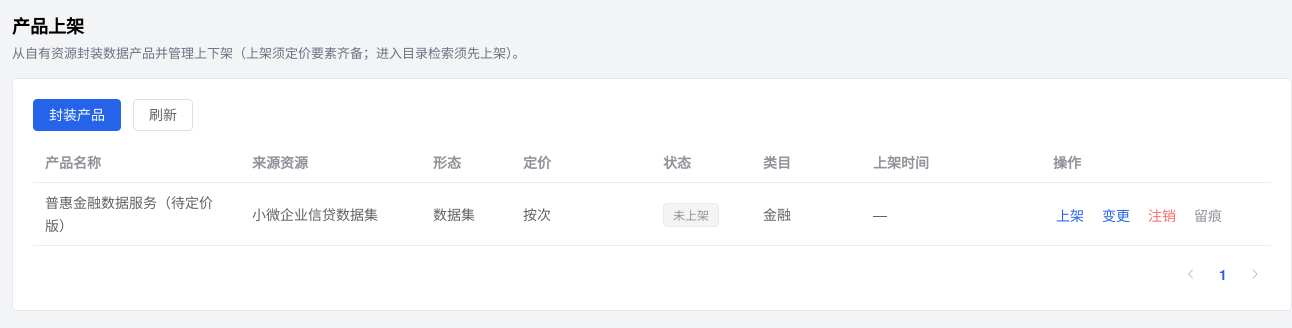
it: 上架 / 下架 / 重新上架 / 注销（T16） › 定价不齐备上架：1007C0020 原样展示且状态不变（不乐观更新）
The image size is (1292, 328).
Click the button "上架".
click(1070, 216)  # box [1053, 206, 1087, 226]
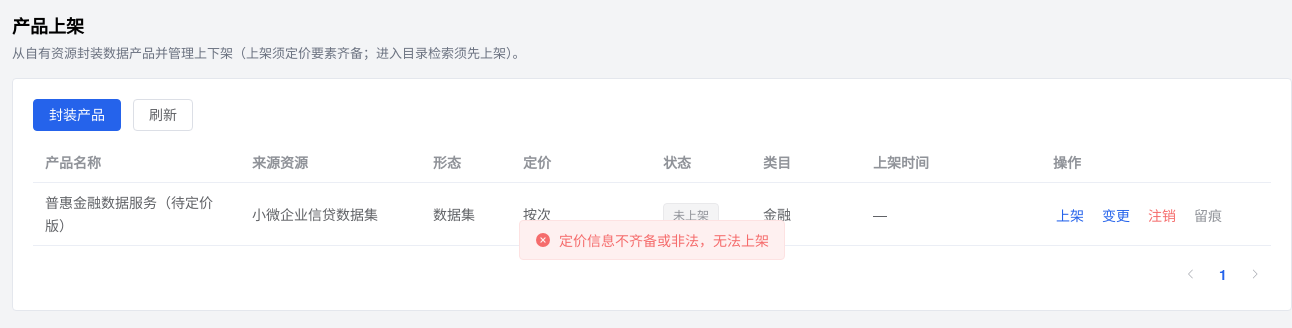
Expected: the text "未上架" is shown, [673, 209, 709, 221]
Result: the text "定价信息不齐备或非法，无法上架" is shown at [559, 233, 769, 247]
